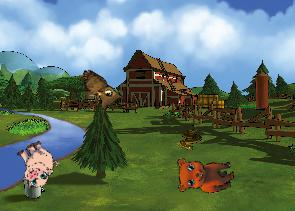bear: (172, 147, 237, 199)
owl: (71, 67, 125, 115)
pig: (9, 136, 63, 191)
